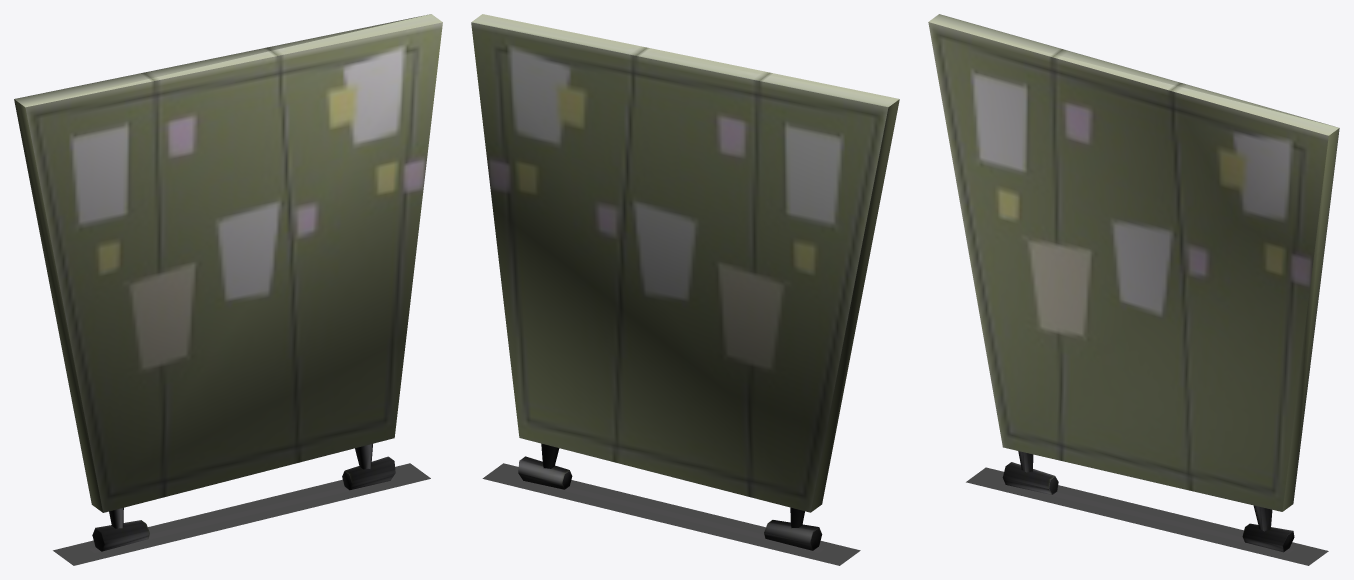
The model's file is field_maze_divider.glb.
The picture shows the model from 3 angles, left to right: view 1: azimuth 30°, elevation 25°; view 2: azimuth 150°, elevation 25°; view 3: azimuth 330°, elevation 25°; orthographic projection. The views are drawn at different scales.
Parts seen in each view (by area): view 1: divider, floorShadow_divider, base1, base2; view 2: divider, floorShadow_divider, base1, base2; view 3: divider, floorShadow_divider, base1, base2.
Part boxes in pixels (x1,y1,x2,y2): divider: [14, 14, 442, 512]; floorShadow_divider: [53, 463, 430, 565]; base1: [92, 520, 149, 551]; base2: [342, 456, 395, 490]; divider: [471, 14, 899, 512]; floorShadow_divider: [482, 463, 860, 565]; base1: [764, 520, 822, 550]; base2: [518, 456, 572, 489]; divider: [928, 14, 1339, 511]; floorShadow_divider: [966, 467, 1328, 565]; base1: [1002, 462, 1058, 494]; base2: [1242, 523, 1294, 552].
Size of the model in its own units: 8.93 by 9.52 by 0.7857.
Materials: 3 (1 with a texture image).
